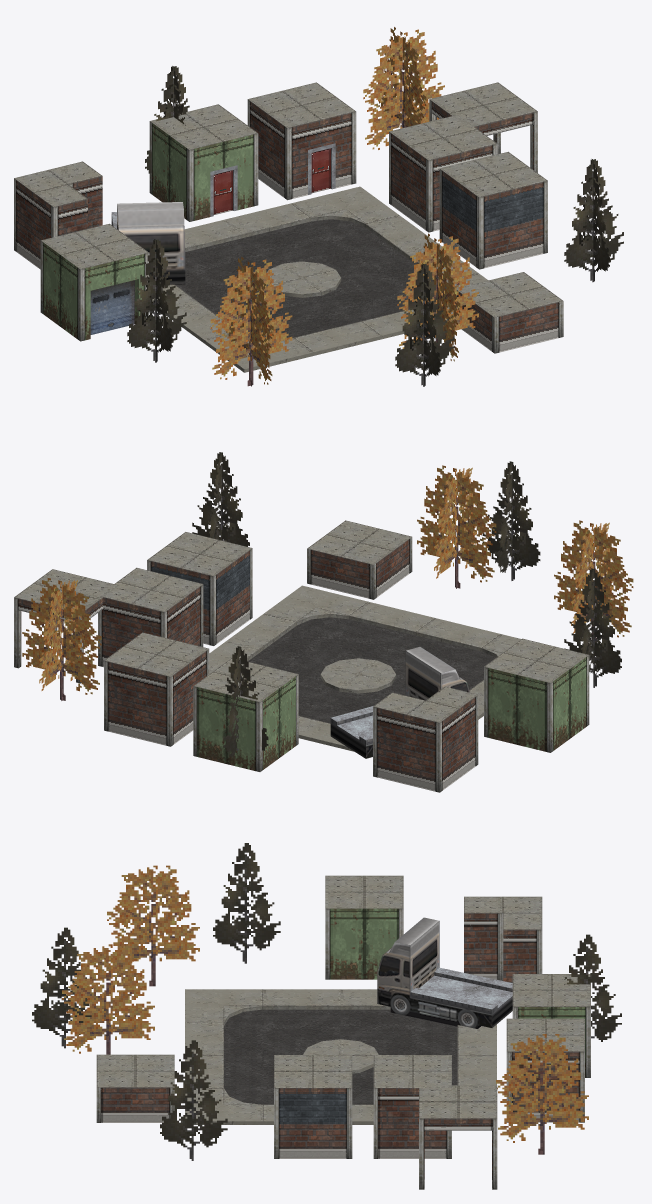
Rendered from urban.gltf.
3 renders of one model, top to bottom at view 1: azimuth 30°, elevation 25°; view 2: azimuth 150°, elevation 25°; view 3: azimuth 270°, elevation 25°, orthographic. The views are drawn at different scales.
Parts seen in each view (by area): view 1: Mesh_wallA_painted, Mesh_wallB_door, Mesh_wallA_door, tree_large002, Mesh_roadAsphalt_corner002, tree_large, Mesh_wallB_garage, Mesh_roadAsphalt_corner002_1, Mesh_roadAsphalt_corner004, Mesh_wallA_corner, Mesh_wallA, tree_large001 (+23 smaller); view 2: Mesh_wallA_corner, Mesh_wallB_garage, Mesh_wallB_door, Mesh_wallA_door, tree_large, tree_large001, Mesh_roadAsphalt_corner001, Mesh_roadAsphalt_corner001_1, tree_large002, Mesh_wallA, Mesh_wallA_painted, Mesh_wallA_low (+21 smaller); view 3: Mesh_truck_flat, tree_large, tree_large001, tree_large002, Mesh_wallA_painted, Mesh_roadAsphalt_corner004, Mesh_roadAsphalt_corner004_1, Mesh_wallB_garage, Mesh_wallA_corner, Mesh_roadAsphalt_corner003_1, Mesh_wallA, treePine_large001 (+21 smaller).
Boxes of the visible parts, x1,y1,x2,y2 form: Mesh_wallA_painted: (439,169,547,269); Mesh_wallB_door: (149,121,258,221); Mesh_wallA_door: (247,99,356,200); tree_large002: (210,257,292,386); Mesh_roadAsphalt_corner002: (223,186,438,277); tree_large: (363,27,444,149); Mesh_wallB_garage: (40,241,149,341); Mesh_roadAsphalt_corner002_1: (244,219,404,272); Mesh_roadAsphalt_corner004: (166,278,381,372); Mesh_wallA_corner: (14,176,102,269); Mesh_wallA: (389,132,497,232); tree_large001: (397,233,478,361); Mesh_wallA_corner: (373,695,478,792); Mesh_wallB_garage: (484,655,589,752); Mesh_wallB_door: (193,674,298,771); Mesh_wallA_door: (104,649,209,746); tree_large: (22,578,101,700); tree_large001: (417,465,496,588); Mesh_roadAsphalt_corner001: (225,585,435,673); Mesh_roadAsphalt_corner001_1: (259,617,415,668); tree_large002: (554,520,633,642); Mesh_wallA: (98,584,203,667); Mesh_wallA_painted: (147,548,252,645); Mesh_wallA_low: (307,537,412,599); Mesh_truck_flat: (377,917,512,1028); tree_large: (496,1034,588,1154); tree_large001: (62,944,154,1054); tree_large002: (107,865,199,986); Mesh_wallA_painted: (274,1088,352,1158); Mesh_roadAsphalt_corner004: (185,989,341,1054); Mesh_roadAsphalt_corner004_1: (224,1009,341,1059); Mesh_wallB_garage: (325,908,403,979); Mesh_wallA_corner: (464,913,542,982); Mesh_roadAsphalt_corner003_1: (340,1009,457,1059); Mesh_wallA: (373,1088,451,1158); treePine_large001: (213,843,280,963).
Size of the model in its own units: 7.48 by 1.72 by 7.97.
38 materials, 38 textured.
